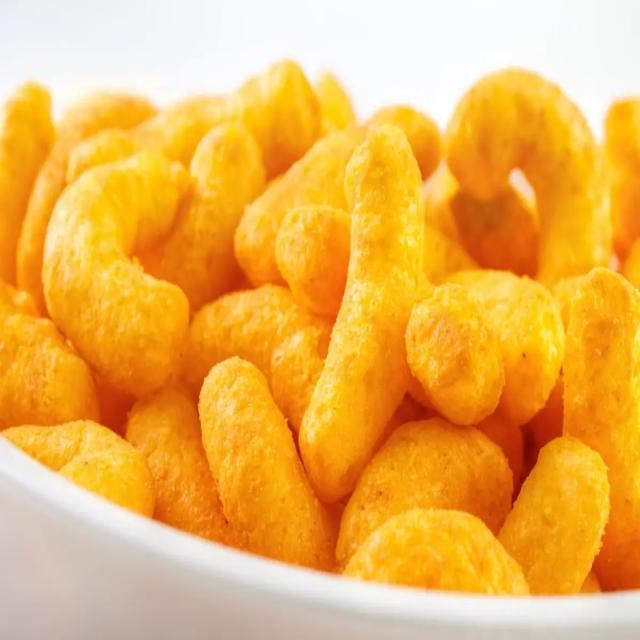Chips packaged: (1, 35, 640, 605)
